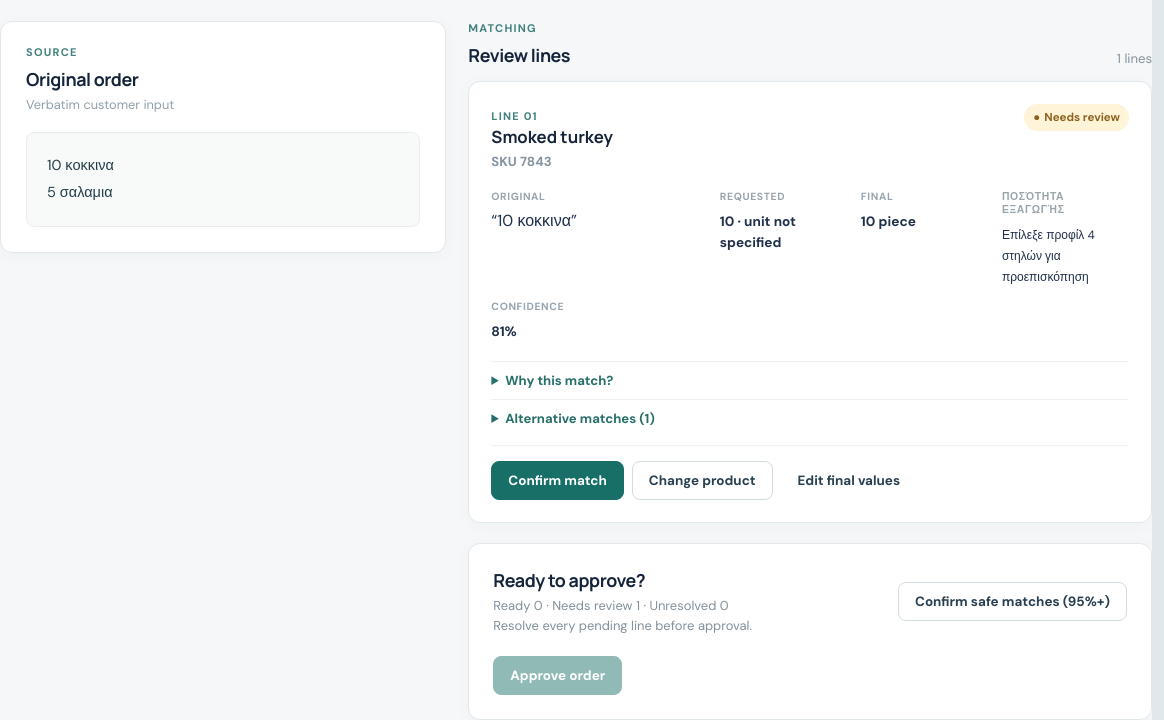
Scenario: operator review › confirms a line and refreshes its status
(page scrolled)
What coordinates should you click on to do the following:
click the button "Confirm match"
I would click on:
 (558, 480)
Its box is [491, 461, 624, 500].
(page scrolled)
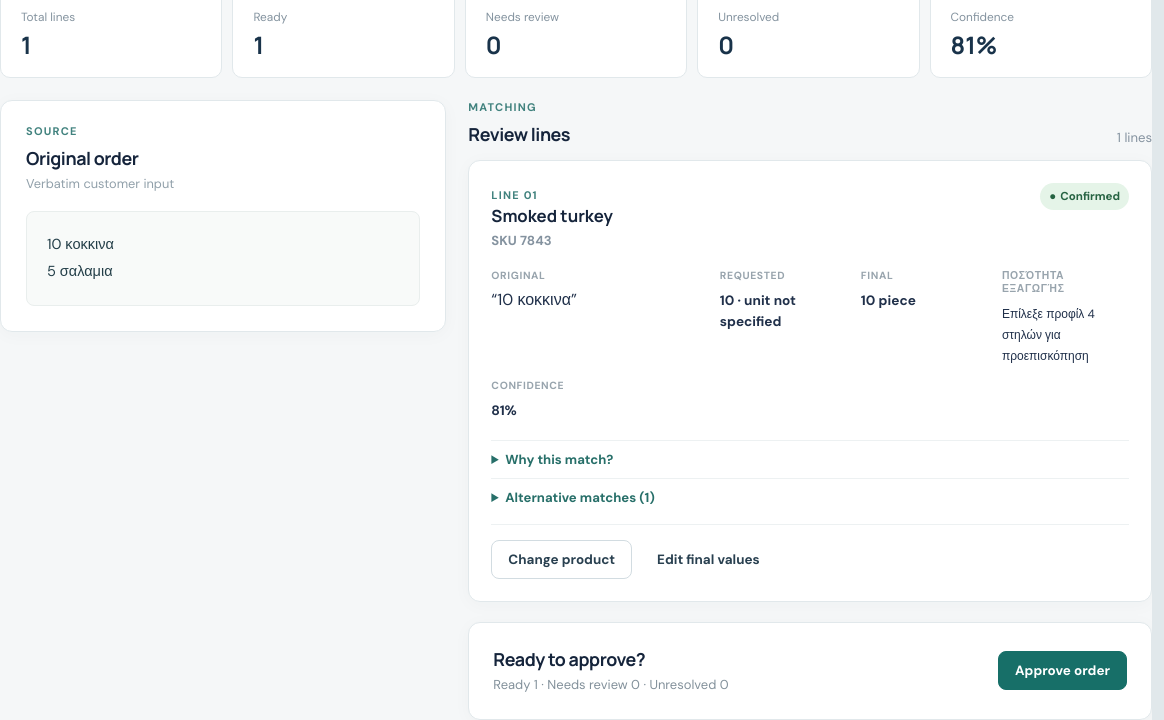
Now the text "Confirmed" is shown, box [1060, 189, 1120, 204]
